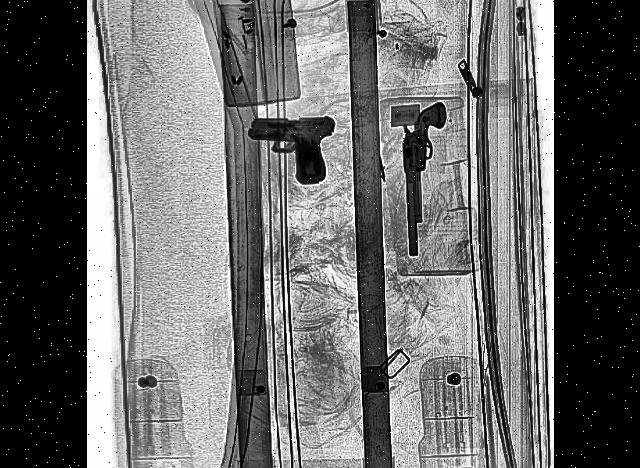Gun: (398, 101, 452, 259), (246, 114, 334, 188)
